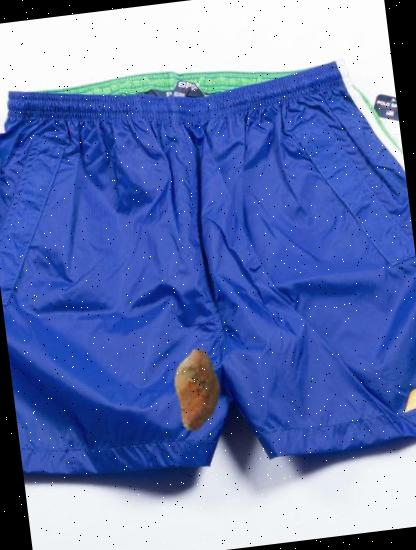Potato: (149, 342, 245, 438)
